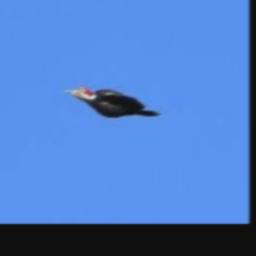Woodpecker: (65, 85, 160, 118)
